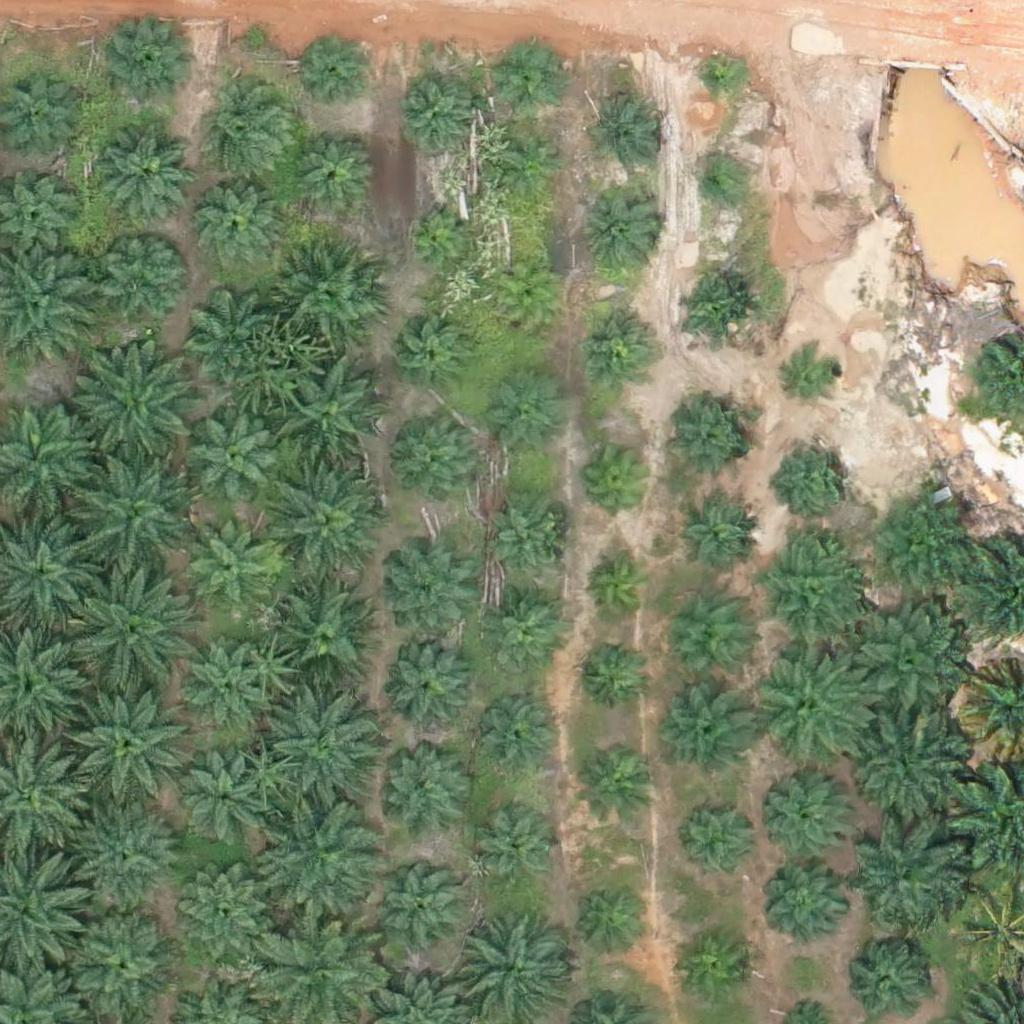Kelapa_Sawit: (748, 638, 873, 764), (78, 454, 203, 580), (70, 566, 195, 692), (69, 680, 194, 806), (848, 704, 973, 830), (845, 810, 970, 936), (74, 349, 199, 474), (840, 603, 965, 728), (273, 470, 386, 583), (258, 804, 371, 917), (70, 808, 183, 921), (265, 689, 377, 803), (865, 486, 977, 600), (755, 538, 867, 651), (65, 909, 177, 1022), (762, 763, 862, 864), (282, 369, 382, 470), (273, 581, 373, 682), (654, 594, 754, 694), (276, 246, 376, 346), (169, 860, 269, 960), (198, 82, 298, 182), (93, 115, 193, 215), (668, 399, 756, 487), (760, 857, 848, 945), (480, 592, 568, 680), (477, 809, 565, 897), (386, 549, 474, 637), (383, 638, 471, 726), (380, 866, 468, 954), (183, 761, 271, 849), (193, 416, 281, 504), (99, 232, 187, 320), (107, 16, 195, 104), (392, 418, 479, 507), (196, 182, 283, 271), (672, 496, 759, 584), (663, 684, 750, 772), (479, 500, 566, 588), (471, 694, 558, 782), (377, 749, 464, 837), (180, 637, 267, 725), (185, 522, 272, 610), (184, 289, 271, 377), (395, 71, 482, 159), (290, 128, 377, 216), (585, 93, 660, 169), (295, 38, 370, 114), (676, 274, 751, 350), (579, 749, 654, 825), (574, 638, 649, 714), (580, 550, 655, 626), (778, 437, 853, 513), (585, 190, 660, 266), (393, 317, 468, 392), (490, 381, 565, 456), (577, 308, 652, 383), (583, 441, 658, 516), (576, 885, 651, 960), (676, 925, 751, 1000), (685, 805, 760, 880), (498, 43, 561, 106), (494, 265, 557, 328), (504, 139, 566, 202), (783, 346, 845, 409), (403, 205, 465, 267), (695, 54, 745, 104), (691, 161, 741, 211)
